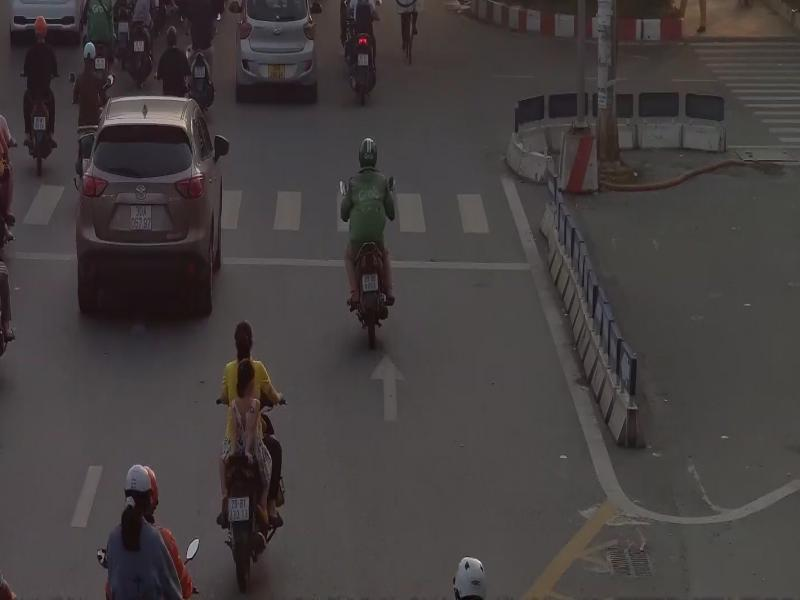helmet: (454, 555, 486, 600), (124, 464, 152, 501), (358, 137, 378, 167), (83, 39, 97, 64), (166, 24, 179, 48), (34, 16, 48, 38)
license_plate: (130, 206, 152, 230), (229, 498, 249, 519), (361, 273, 380, 290), (269, 63, 285, 81), (34, 114, 46, 130)
motorcyclist: (216, 317, 286, 576), (342, 132, 399, 352), (20, 15, 60, 175), (69, 40, 109, 187), (346, 0, 379, 107), (186, 0, 218, 110)
